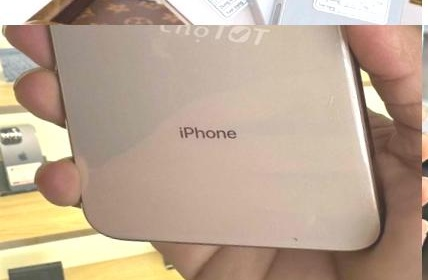scratch: (283, 230, 303, 247)
